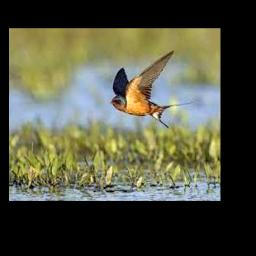Swallow: (111, 51, 193, 129)
